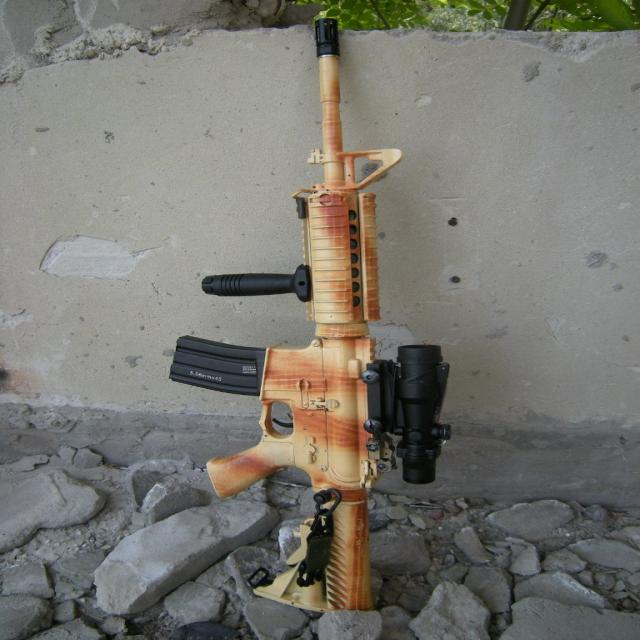firearm: (164, 14, 458, 614)
